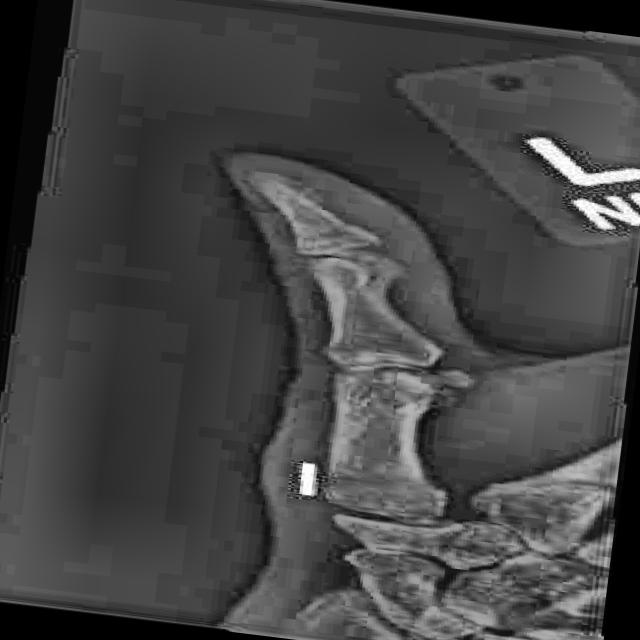forearm fracture: (325, 358, 440, 408)
